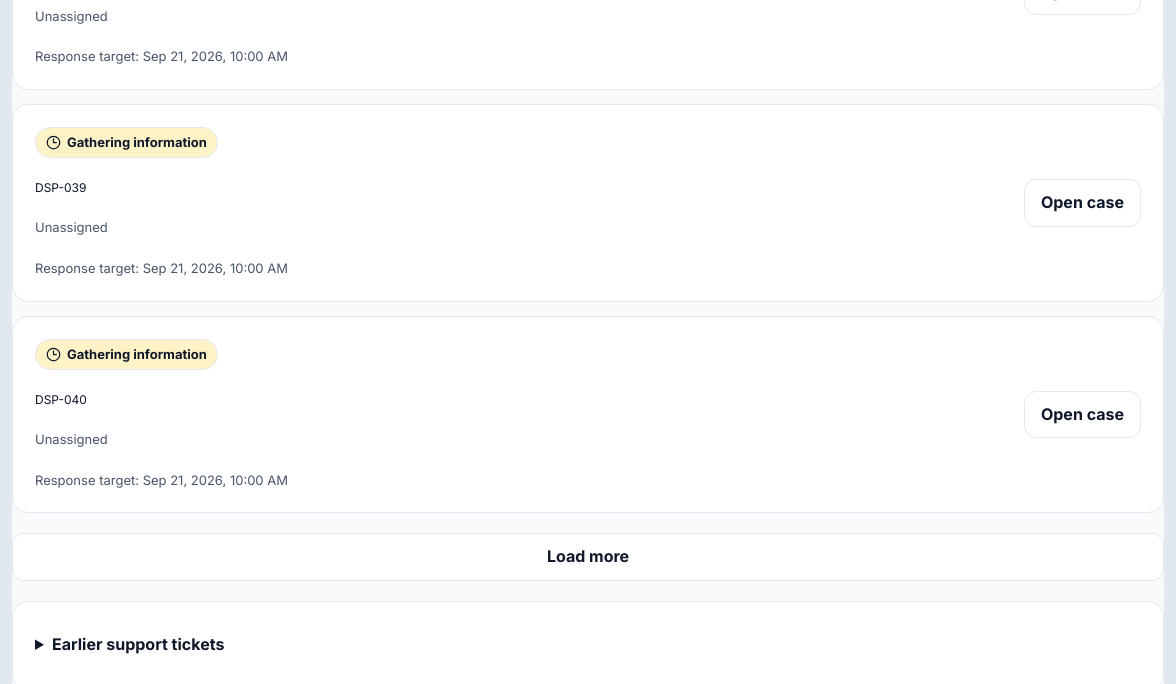
Admin dispute inbox — cursor pagination beyond the first page › loads a second page with tied timestamps without duplicating or dropping a case
(page scrolled)
Check: the text "DSP-041" is not shown
What coordinates should you click on to do the following:
click the button "Load more"
I would click on:
 (588, 557)
Its box is [12,533,1164,581].
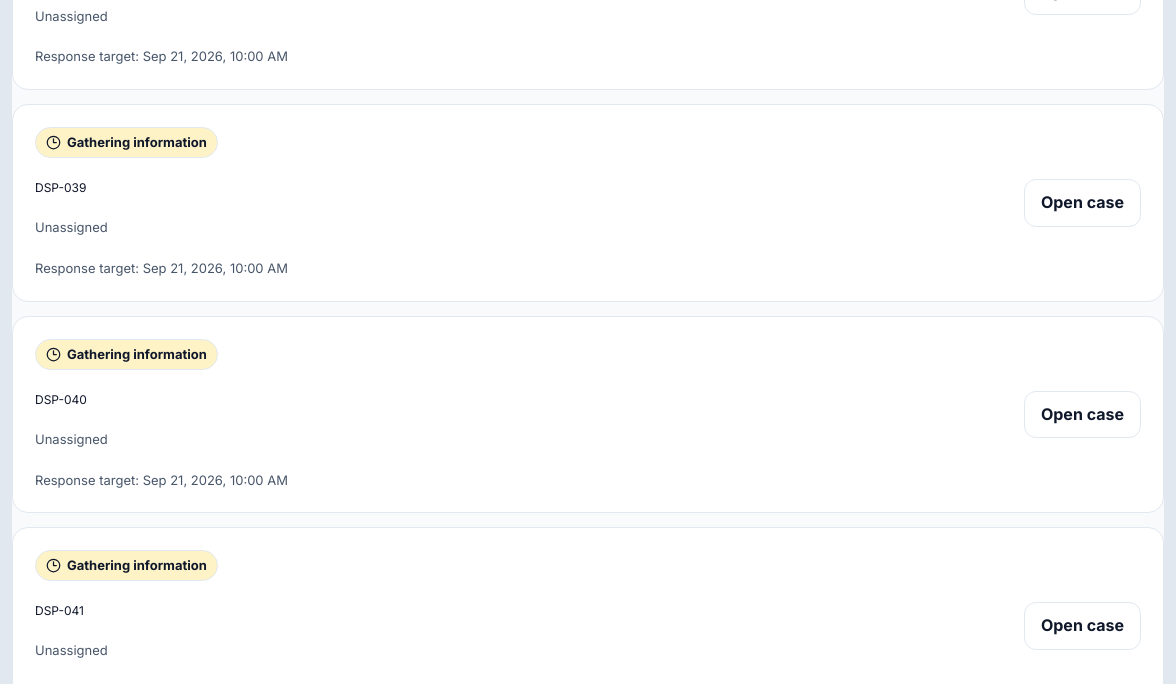
Check: the text "DSP-041" is shown, box [35,603,84,618]
